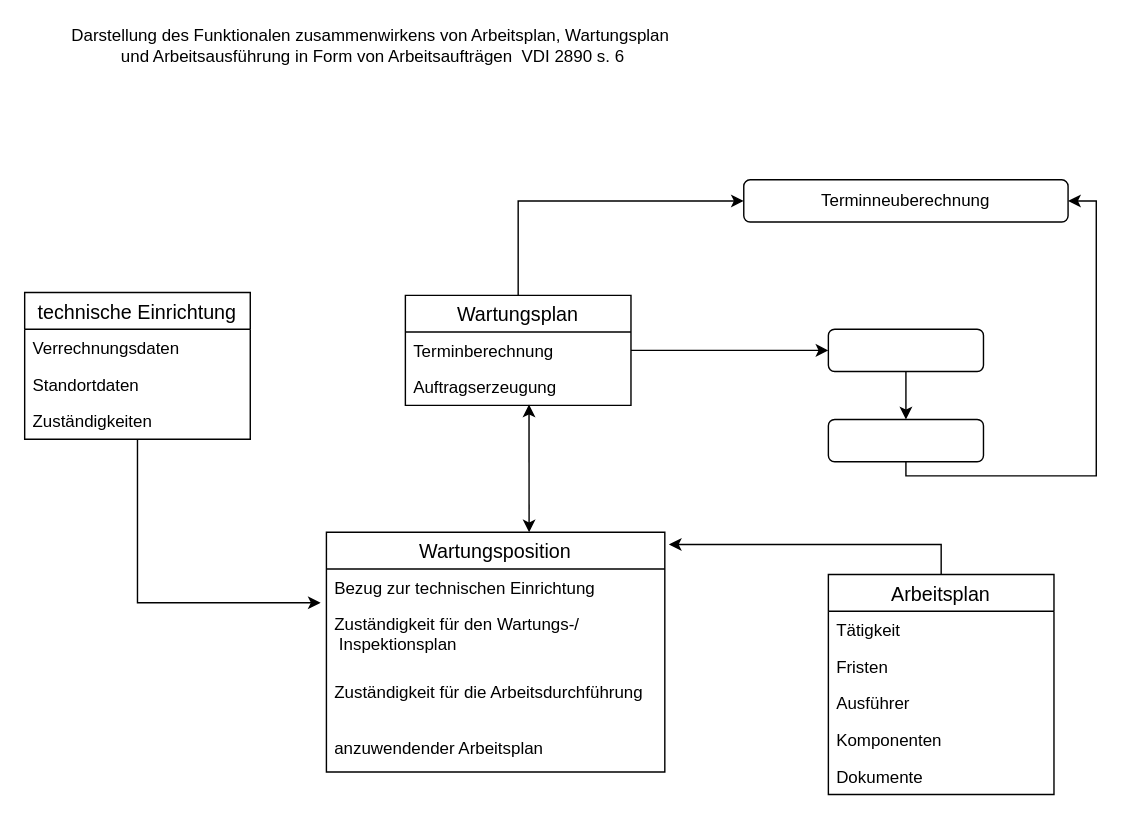
Some shapes in this 1132 by 822 pixel diagram are drawn without their labels. Here are the shapes that lost their labels. From the top down, the centre of each, then its label:
point (905, 350): Auftrag
point (905, 440): Rückmeldung
